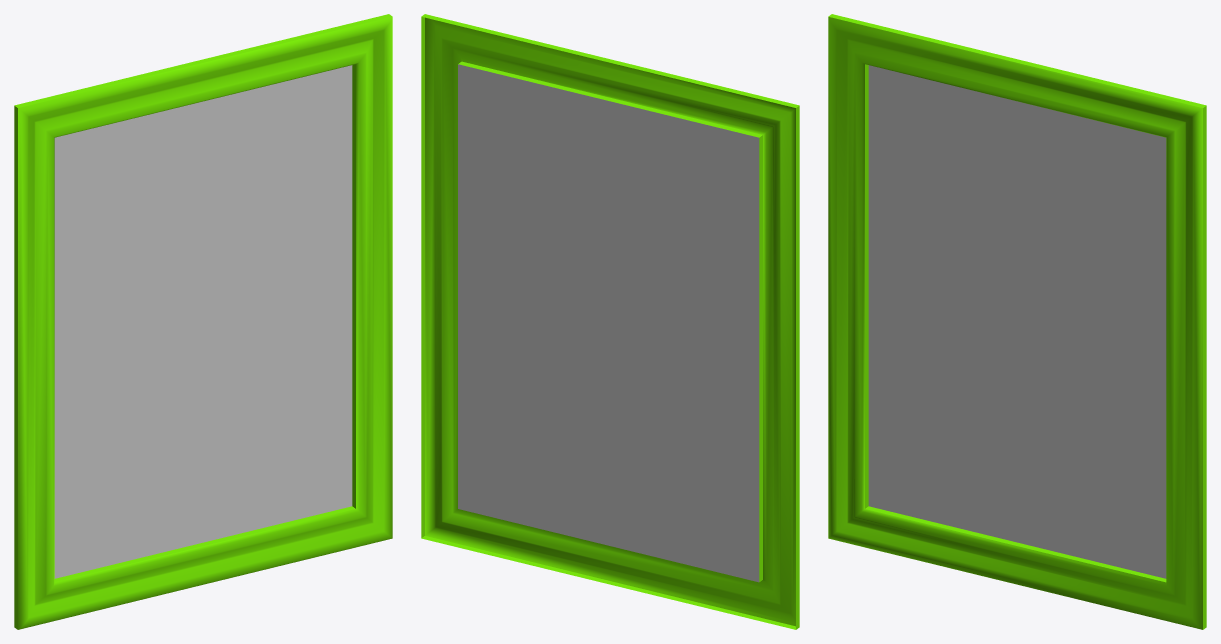
Rendered from painting_22_mesh.fbx.
3 views of the same model, side by side, from view 1: azimuth 30°, elevation 25°; view 2: azimuth 150°, elevation 25°; view 3: azimuth 330°, elevation 25° (orthographic).
Visible parts, largest first — view 1: painting; view 2: painting; view 3: painting.
Boxes of the visible parts, <box> form: painting: <box>14,14,392,629</box>; painting: <box>421,14,799,629</box>; painting: <box>828,14,1206,629</box>.
Bounding box in the file's own units: 0.8818 × 1.17 × 0.02.
